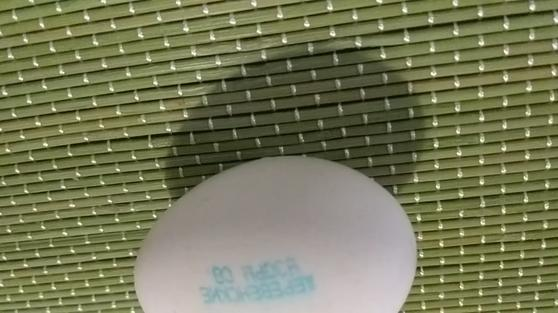egg: (133, 152, 419, 313)
